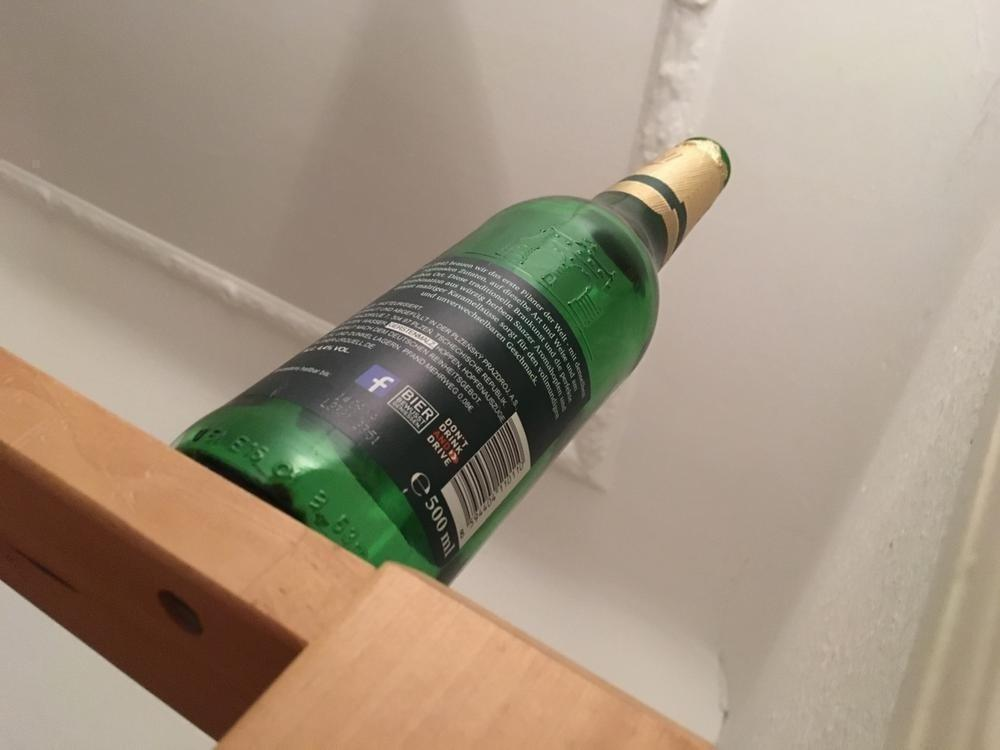bottle-glass: (161, 133, 738, 602)
